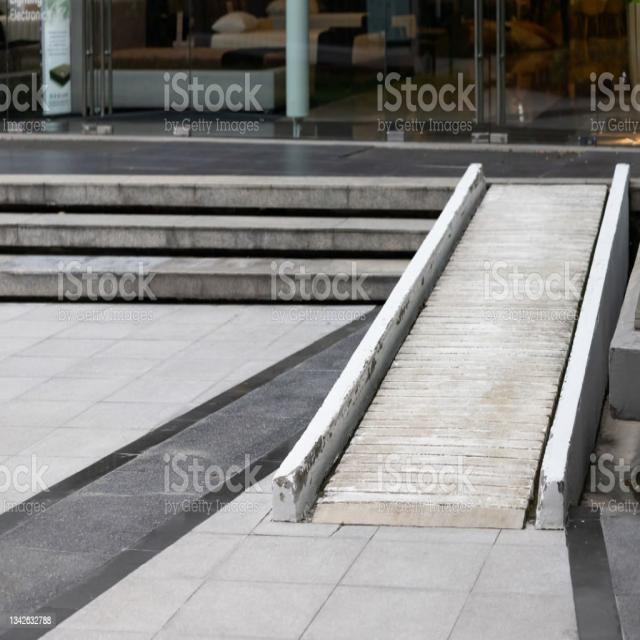AVOID: (1, 180, 456, 304)
CLIMB: (275, 168, 629, 525)
